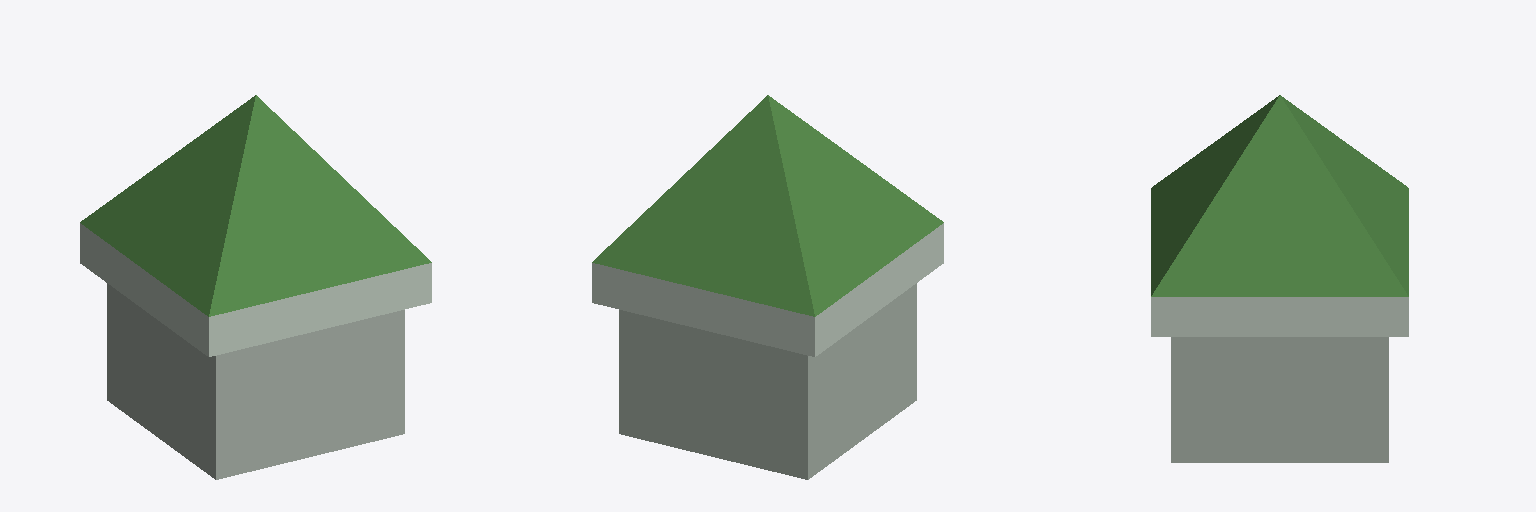
The model's file is tile_054.obj.
3 views of the same model, side by side, from view 1: azimuth 30°, elevation 25°; view 2: azimuth 150°, elevation 25°; view 3: azimuth 270°, elevation 25° (orthographic).
Visible parts, largest first — view 1: tile_054; view 2: tile_054; view 3: tile_054.
Boxes of the visible parts, box(x1,y1,x2,y2) form: tile_054: box(80, 95, 431, 479); tile_054: box(592, 95, 943, 479); tile_054: box(1151, 95, 1408, 462).
Bounding box in the file's own units: 0.6974 × 0.96 × 0.6974.